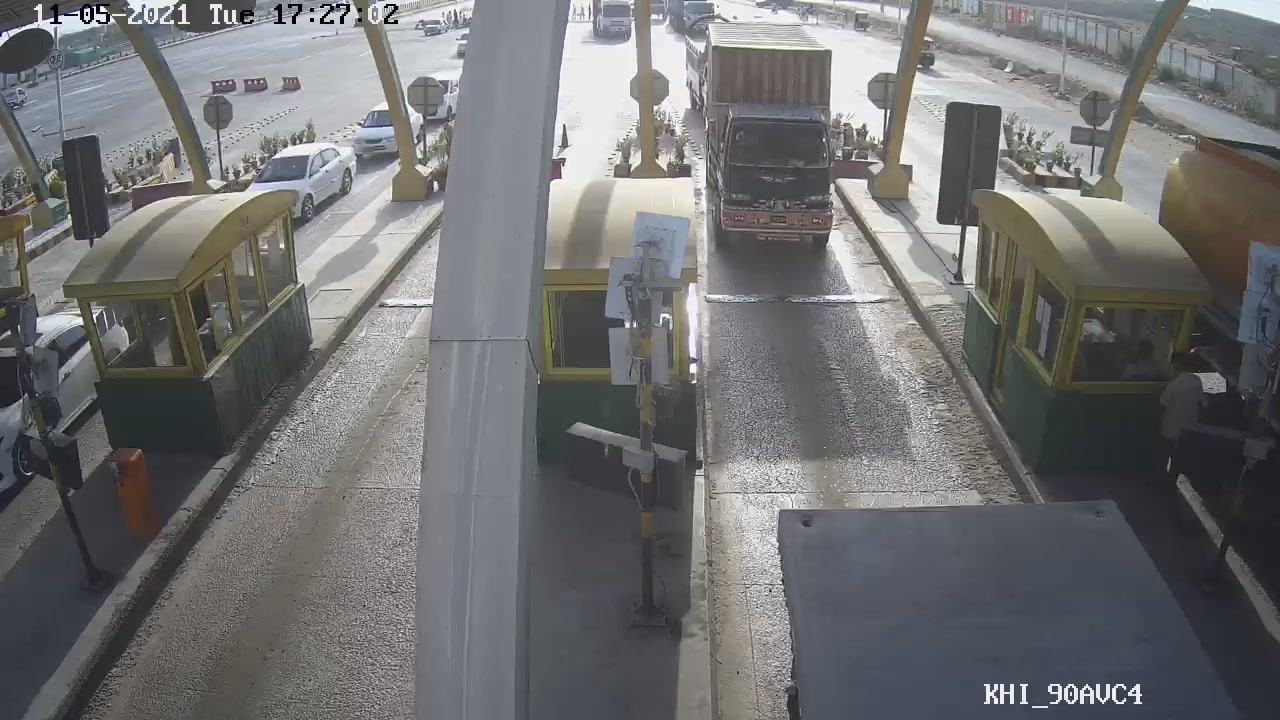F6: (700, 29, 849, 259)
